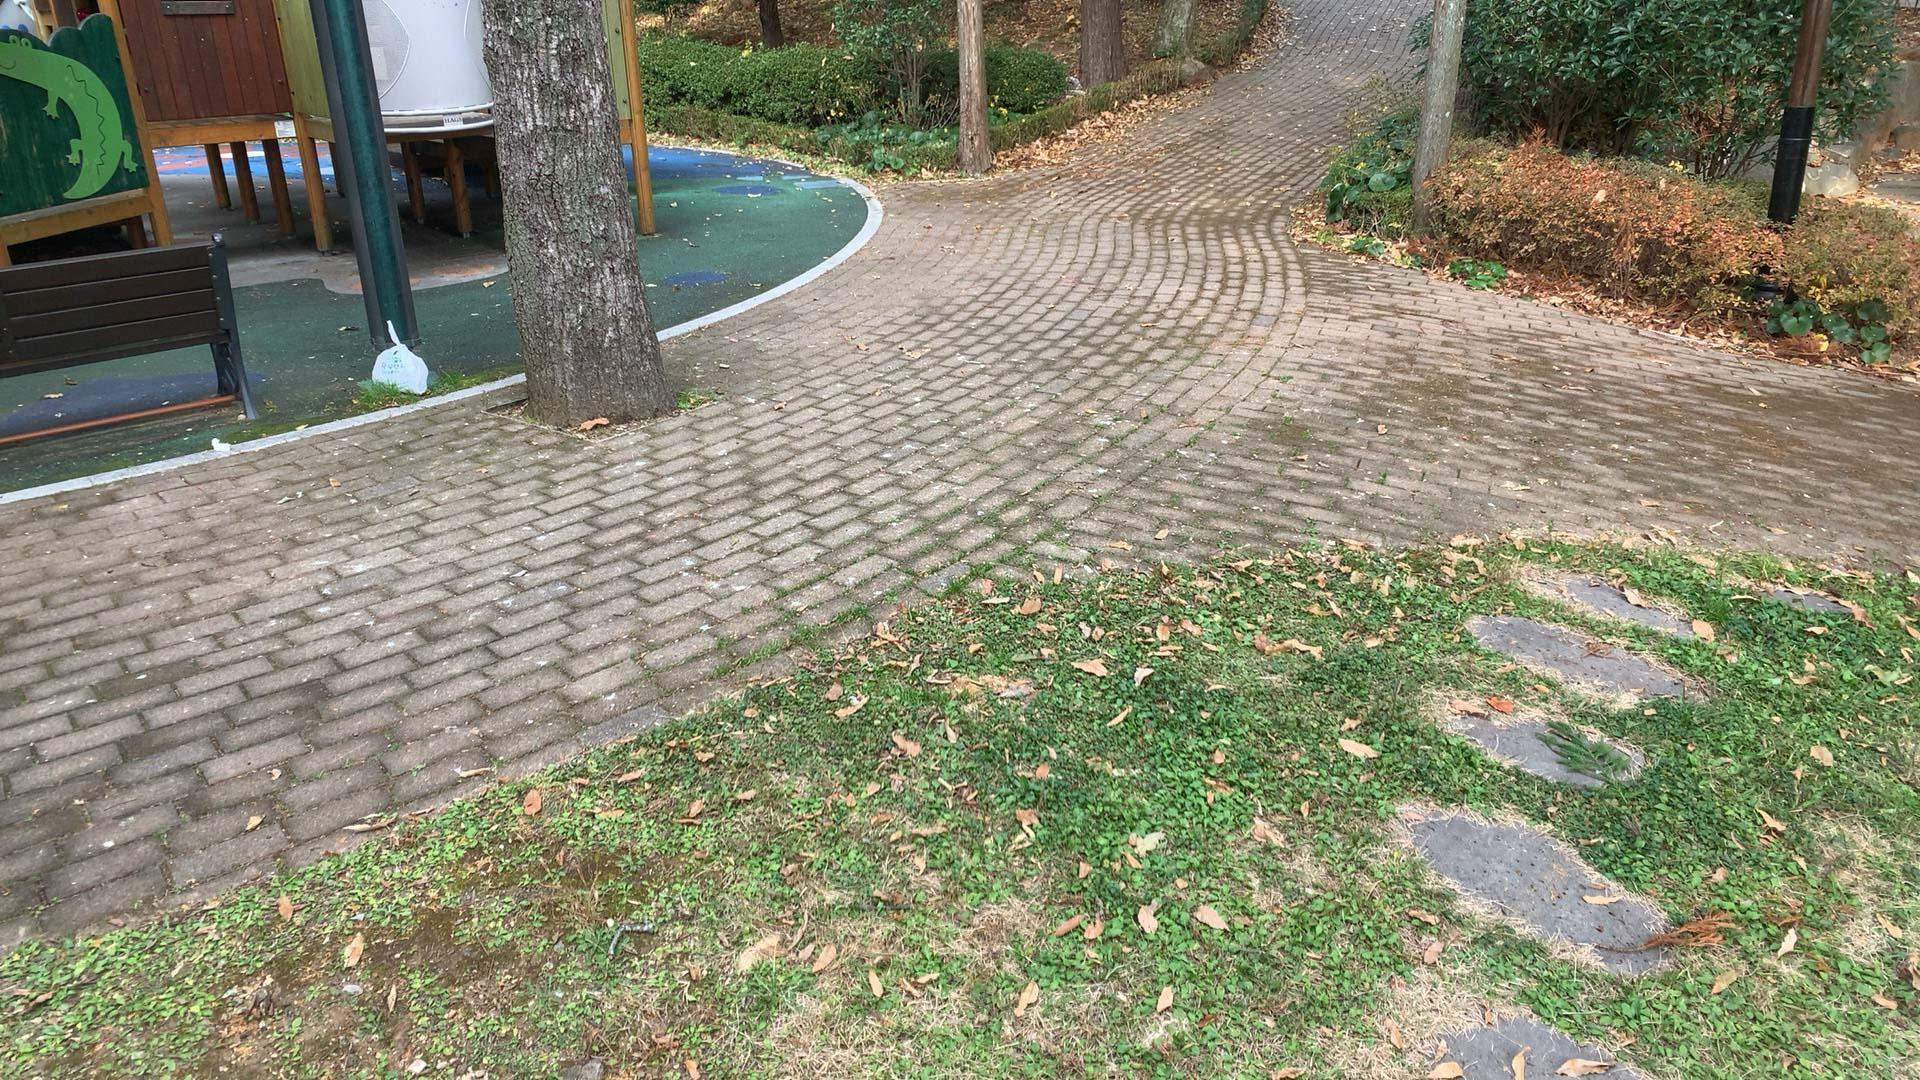white_bag: (360, 316, 434, 396)
